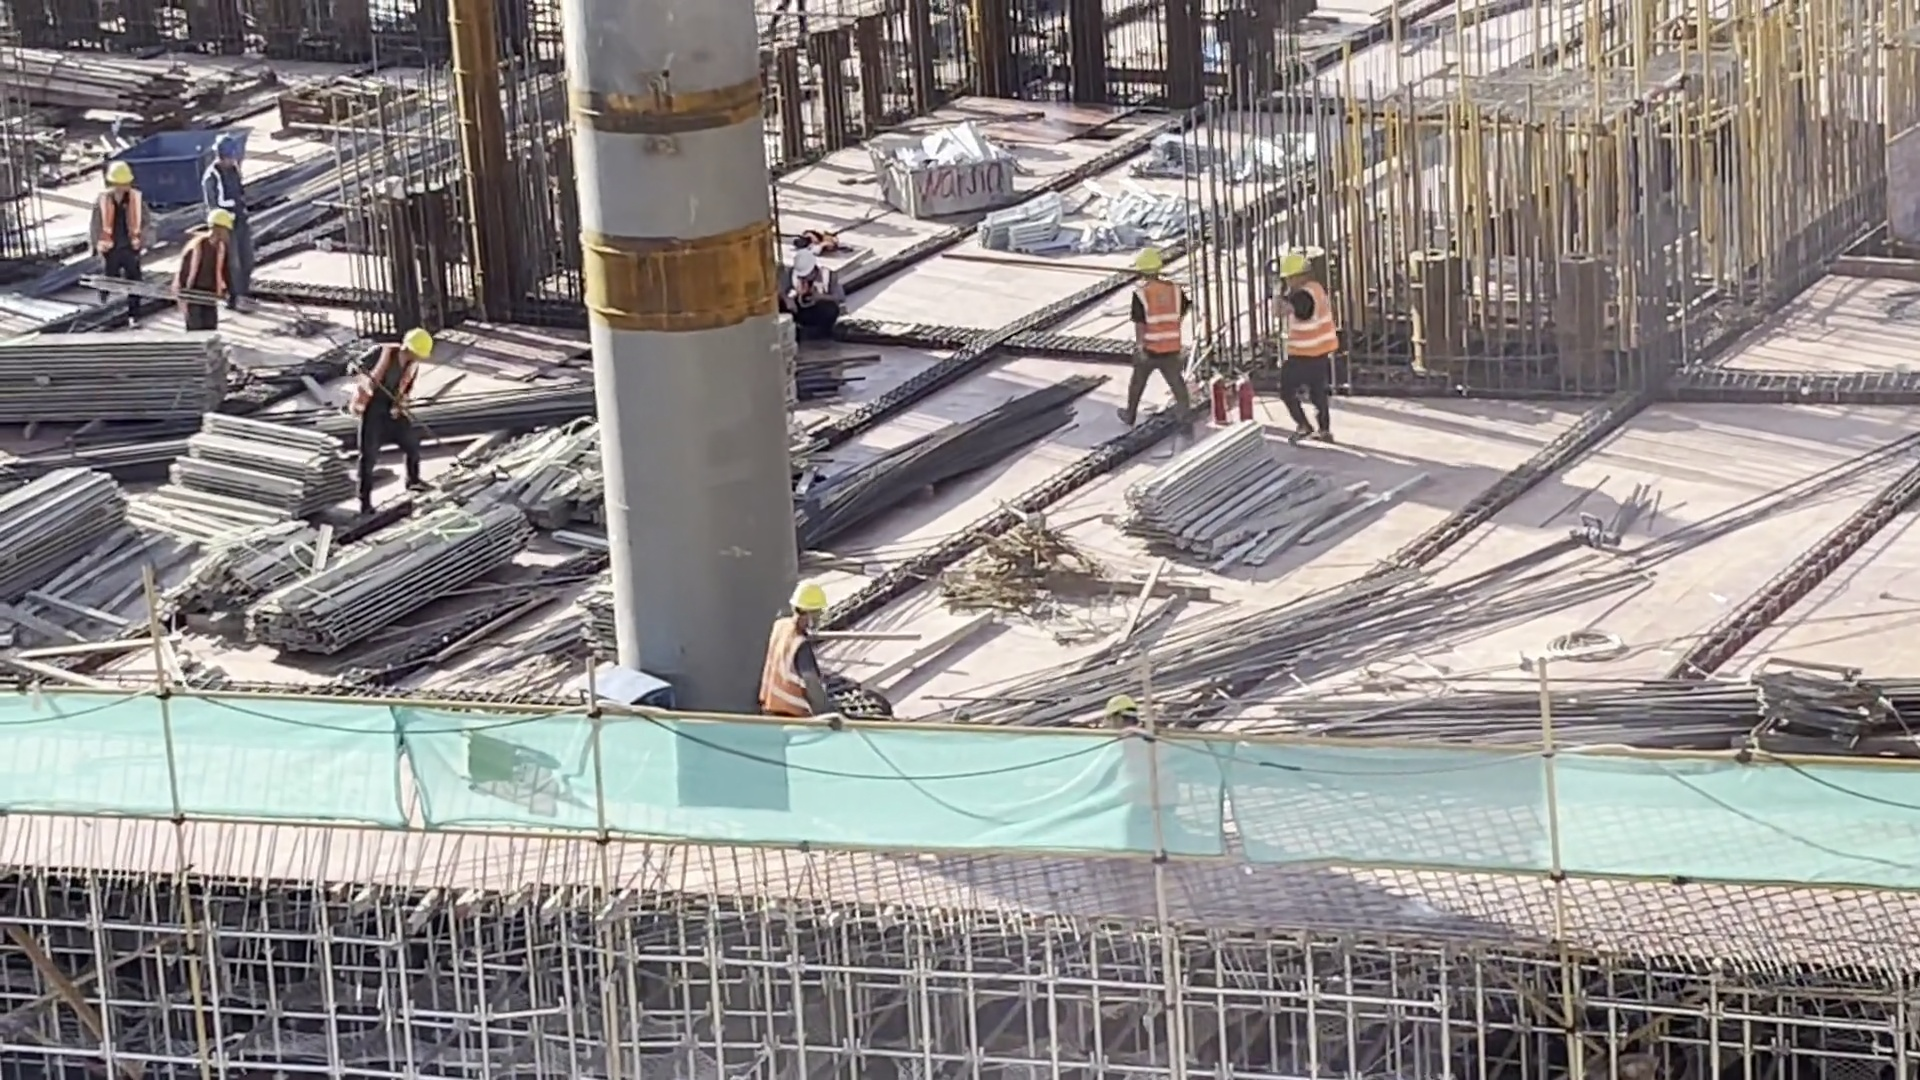helmet: (1271, 237, 1311, 280), (100, 157, 136, 190), (403, 327, 432, 364), (1134, 239, 1171, 267), (791, 248, 825, 276), (792, 585, 825, 612), (215, 126, 244, 156), (203, 204, 234, 226)
hopper: (869, 119, 1025, 215), (128, 112, 248, 206)
person: (1103, 243, 1210, 434), (338, 295, 434, 508), (1260, 248, 1345, 443), (756, 574, 843, 743), (78, 149, 154, 297), (175, 190, 243, 354), (204, 131, 255, 269), (780, 238, 848, 324)
vest: (755, 611, 822, 706), (1282, 291, 1337, 363), (1136, 287, 1182, 360), (374, 339, 414, 422), (99, 191, 149, 256), (181, 235, 226, 300), (215, 165, 245, 202)
wood: (249, 495, 533, 656), (1, 304, 232, 441), (1136, 411, 1336, 567), (1, 455, 154, 591), (162, 405, 345, 517)
